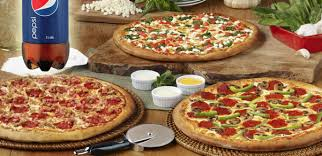pizza: (177, 77, 322, 152), (1, 74, 132, 131), (113, 12, 260, 61)
